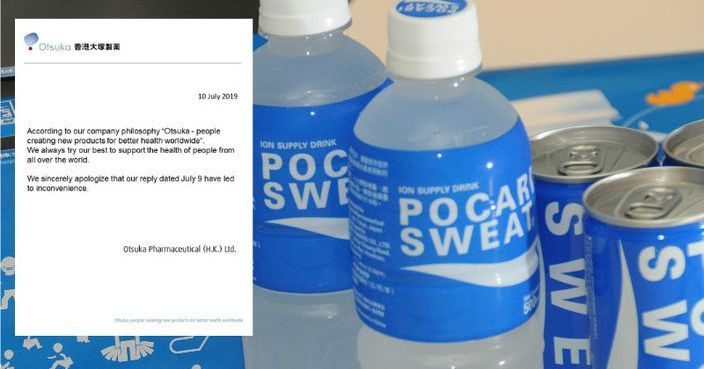POCARI SWEAT: (355, 1, 542, 369), (254, 1, 388, 364)
